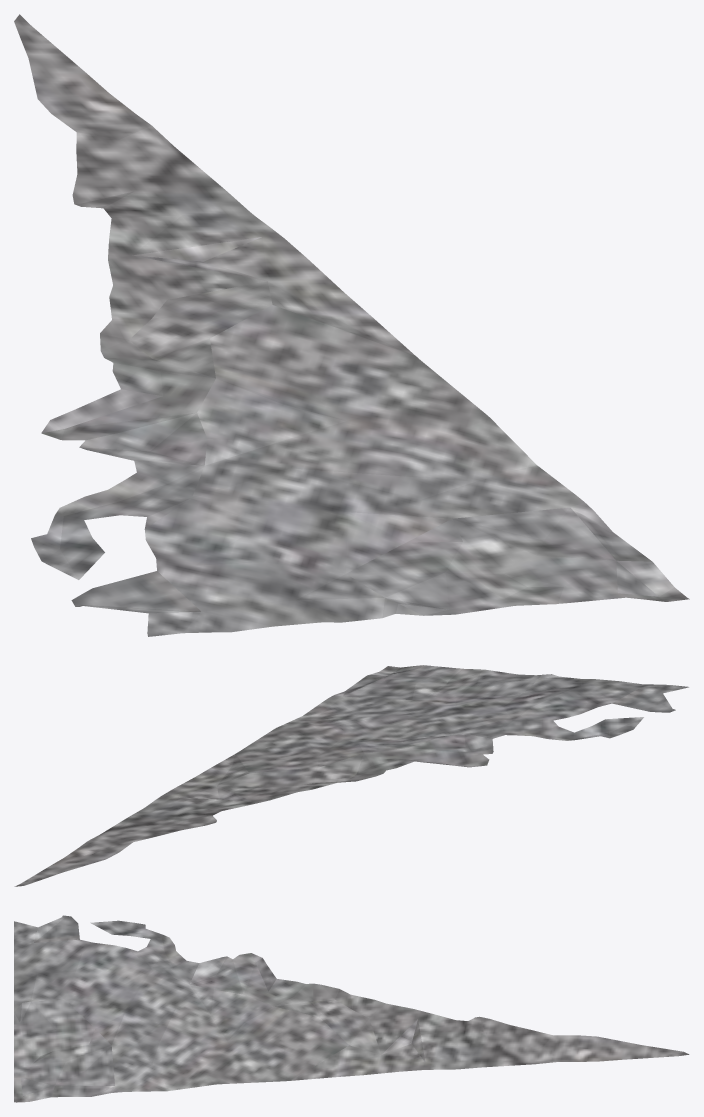
3 renders of one model, top to bottom at view 1: azimuth 30°, elevation 25°; view 2: azimuth 150°, elevation 25°; view 3: azimuth 270°, elevation 25°, orthographic. The views are drawn at different scales.
Size of the model in its own units: 0.3569 by 0.0572 by 0.7324.
Materials: 1 (1 with a texture image).
